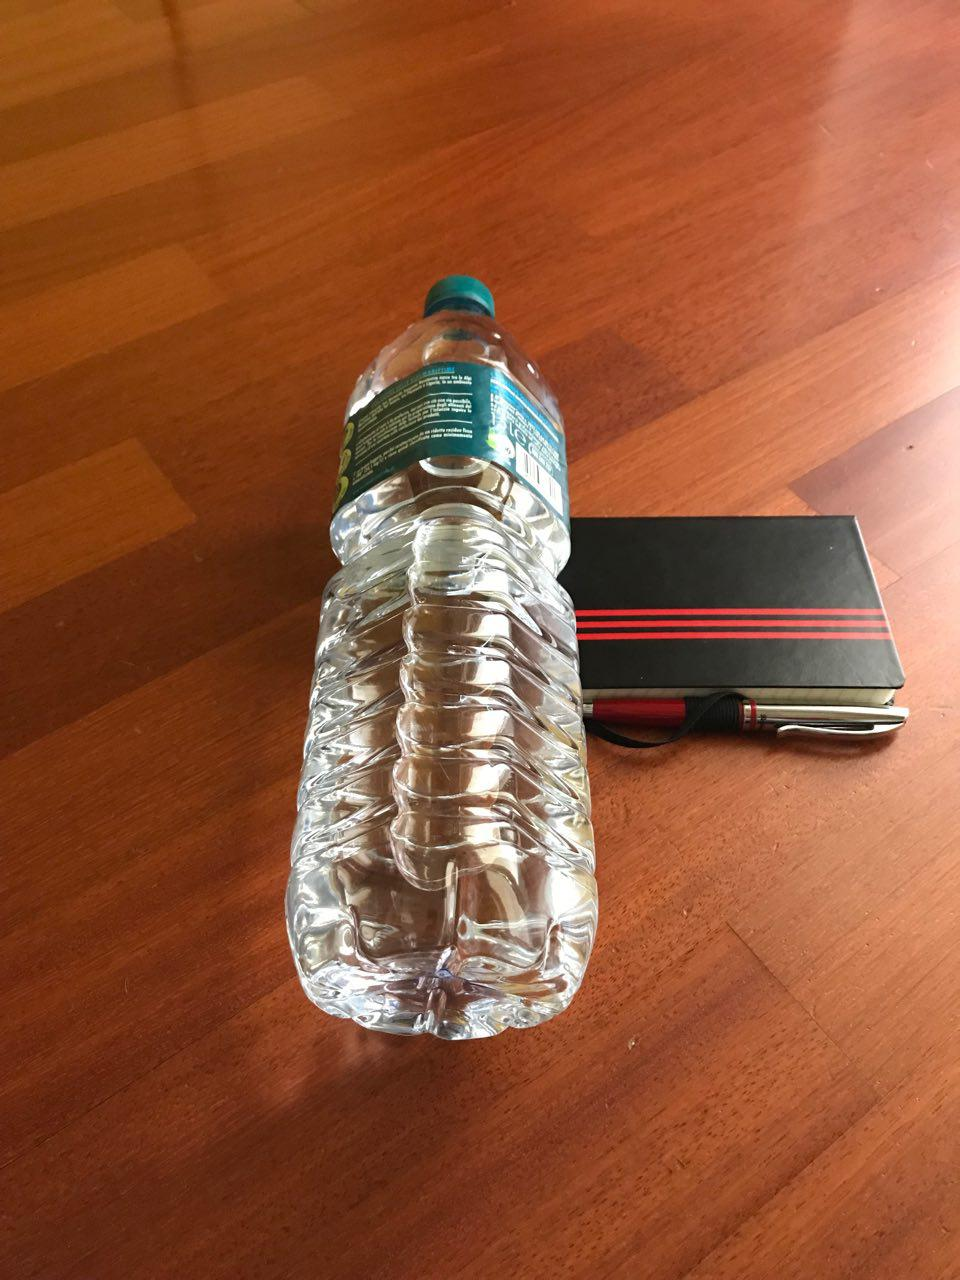san_bernardo: (281, 273, 602, 1045)
